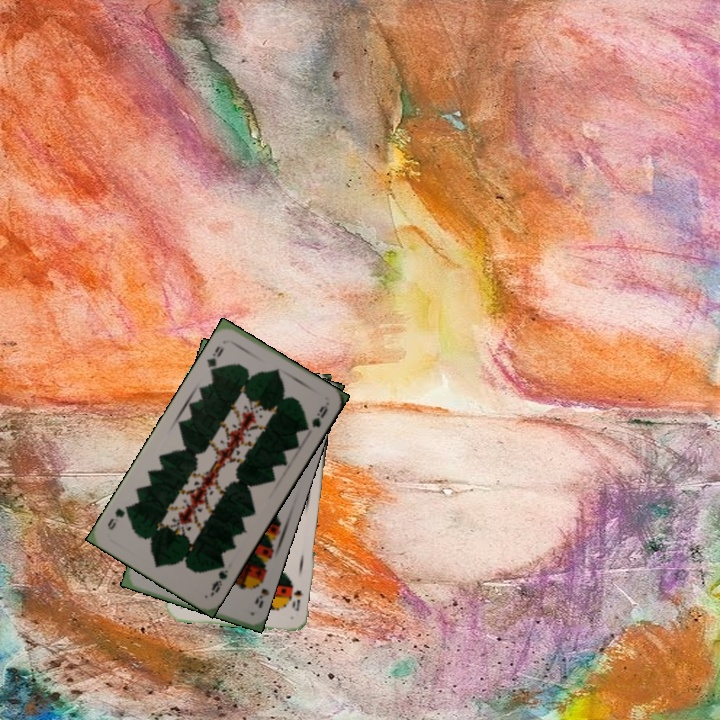G9: (202, 342, 226, 376), (207, 566, 231, 595)
S9: (250, 573, 270, 611)
SO: (288, 586, 306, 614)
